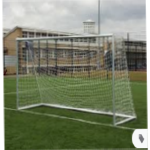goals: (16, 33, 136, 125)
